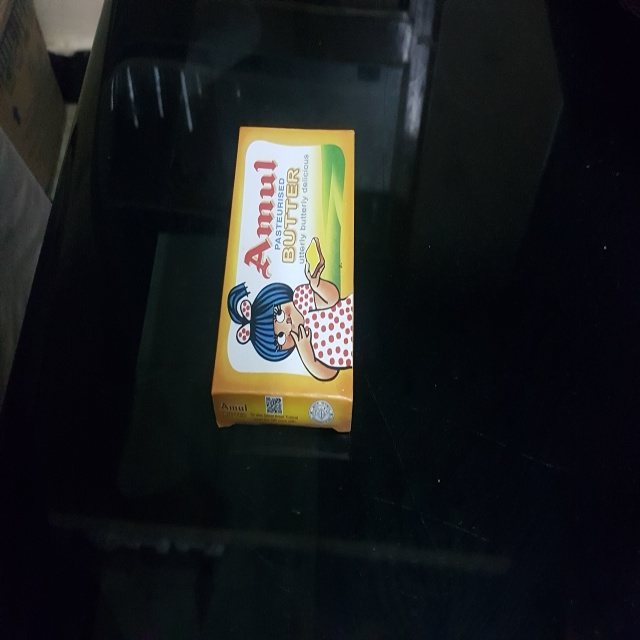butter: (210, 119, 369, 450)
